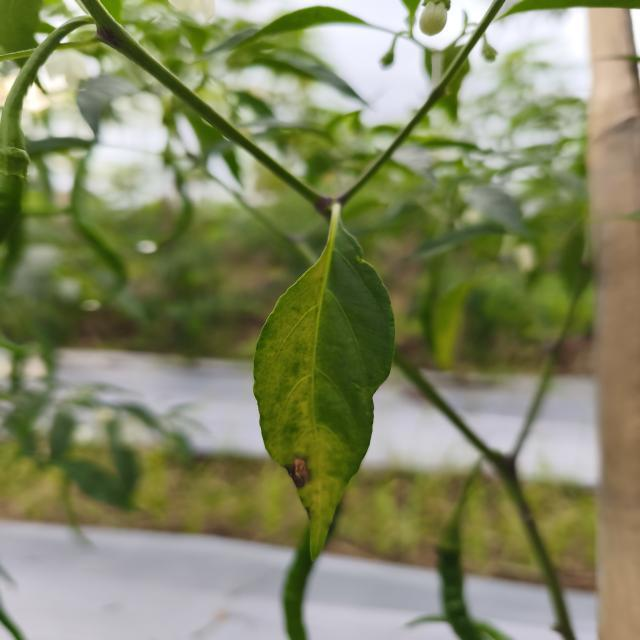Virus Kuning: (252, 202, 396, 562)
